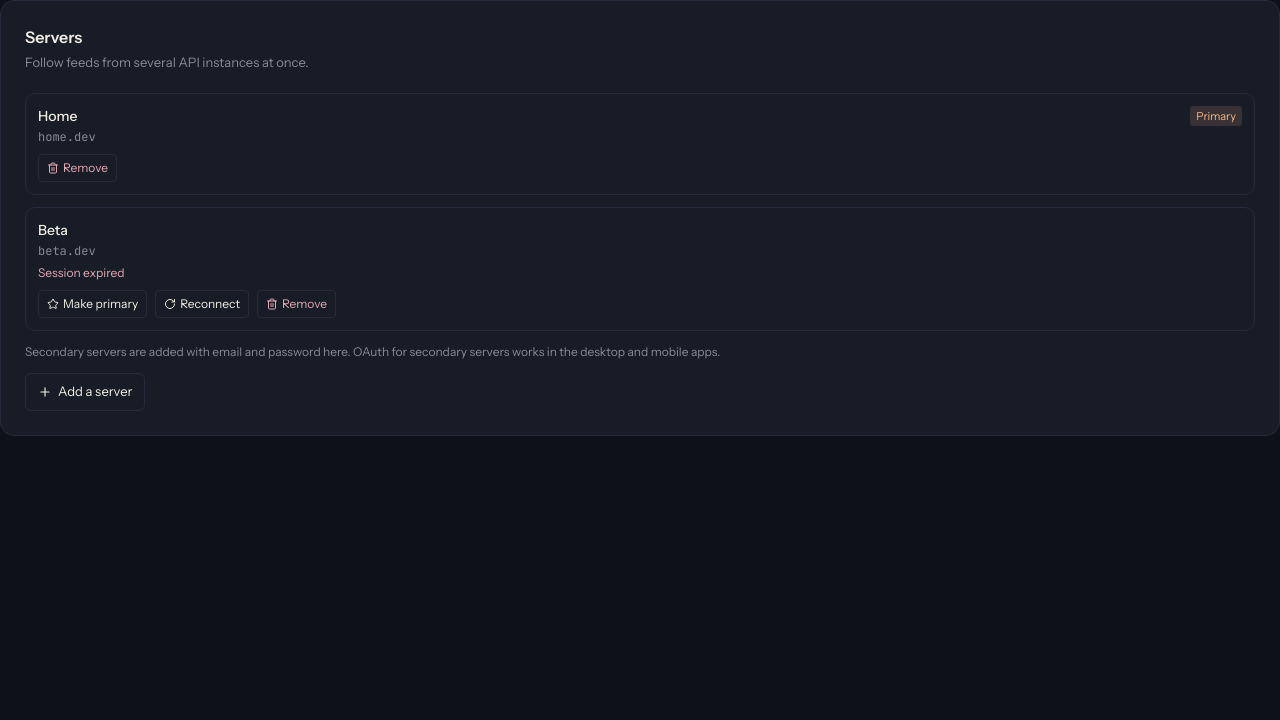
InstancesCard › shows the probe error and no credential form
Click the button "Add a server". click: {"x": 85, "y": 392}
box: 25,373 -> 146,410
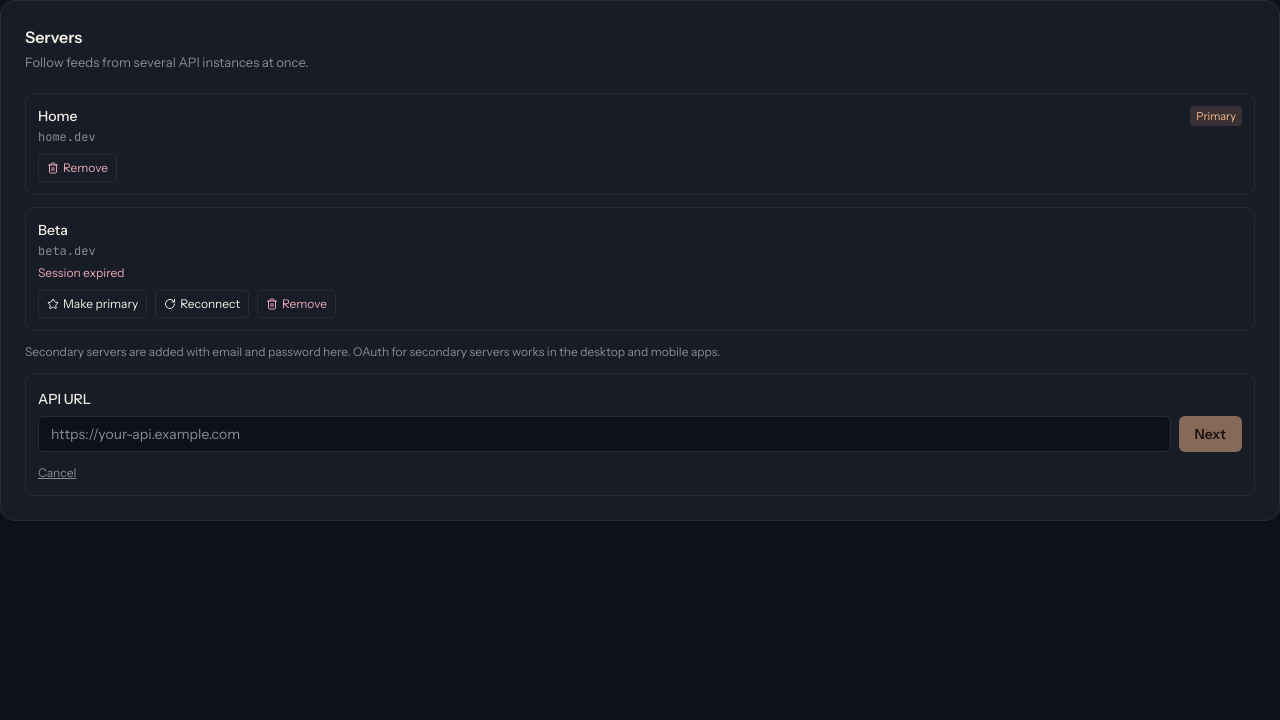
Type "https://x" into the field labelled "API URL". click: {"x": 604, "y": 434}
box: 38,416 -> 1171,452
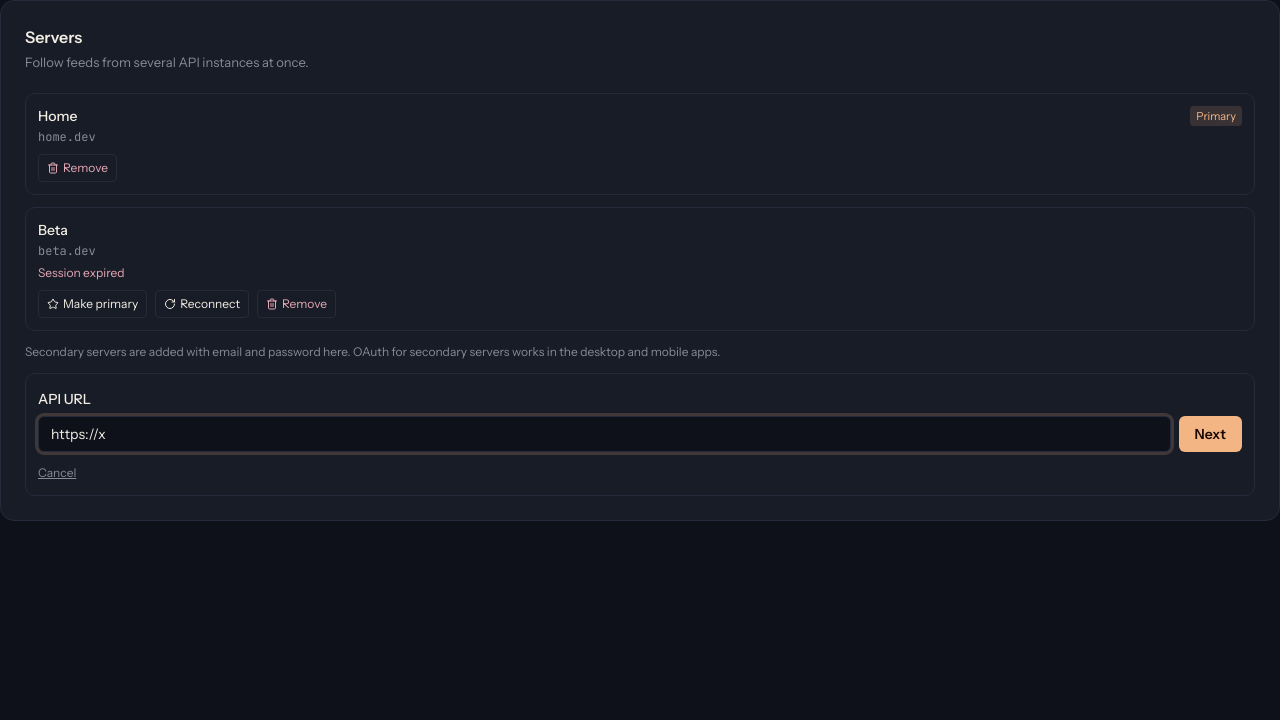
Click the button "Next". click: {"x": 1210, "y": 434}
box: 1179,416 -> 1242,452
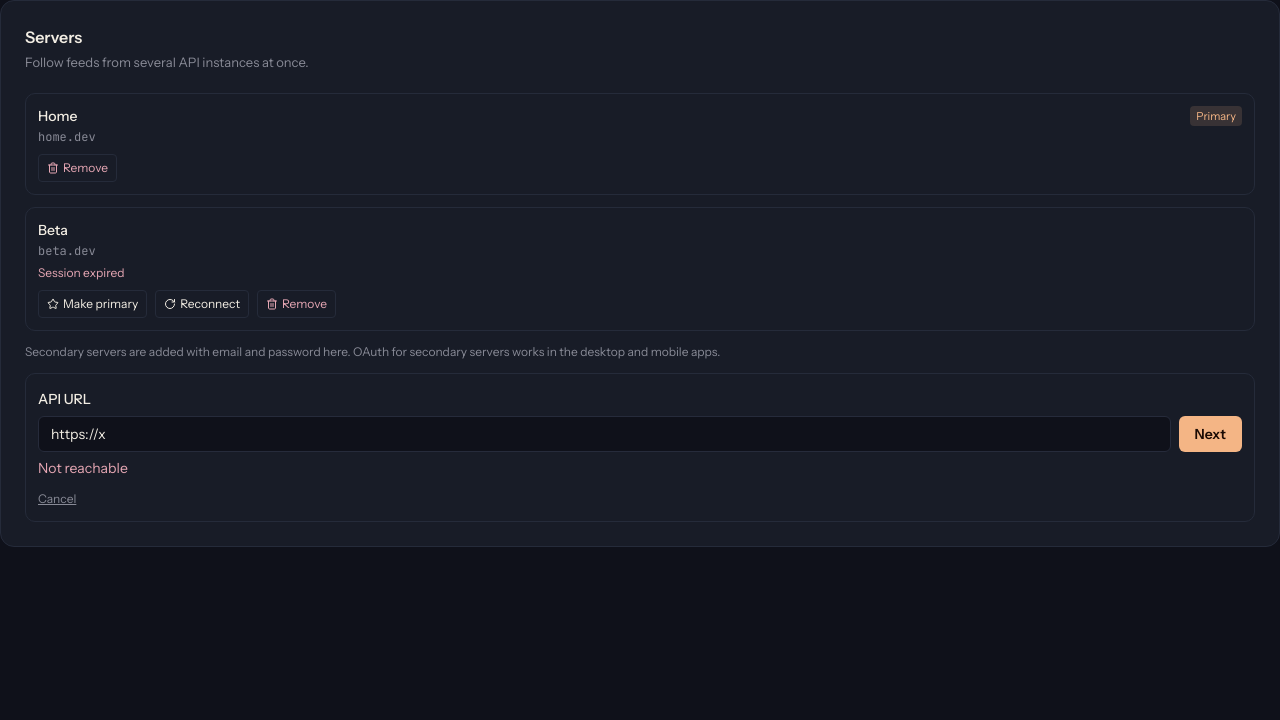
Expected: the text "Not reachable" is shown, 38,459 -> 128,477
